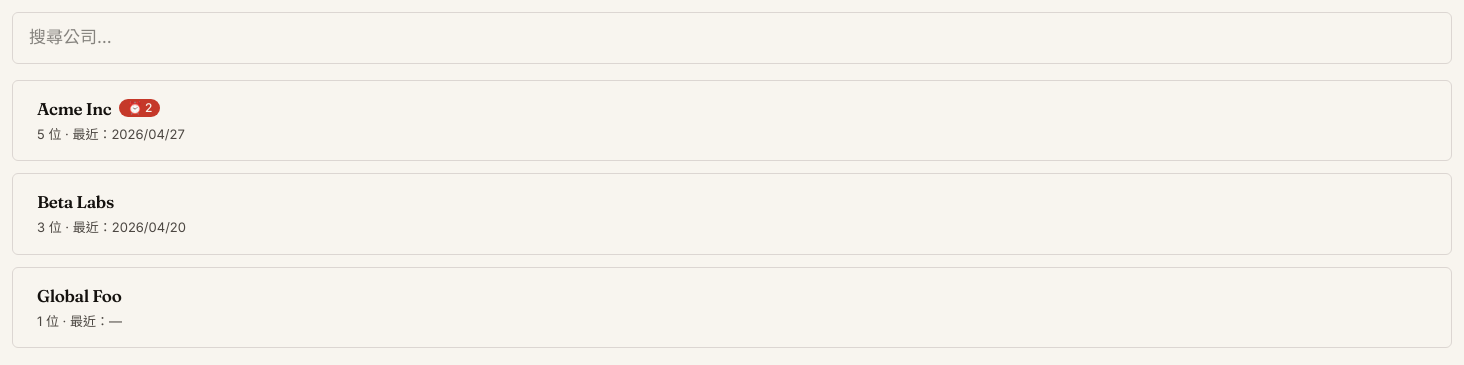
it: CompanyList filter › shows '沒有符合' message when nothing matches
This screenshot has width=1464, height=365.
Type "xyz" into the search field labelled "搜尋公司".
click(732, 38); type("xyz")  # box [12,12,1452,64]
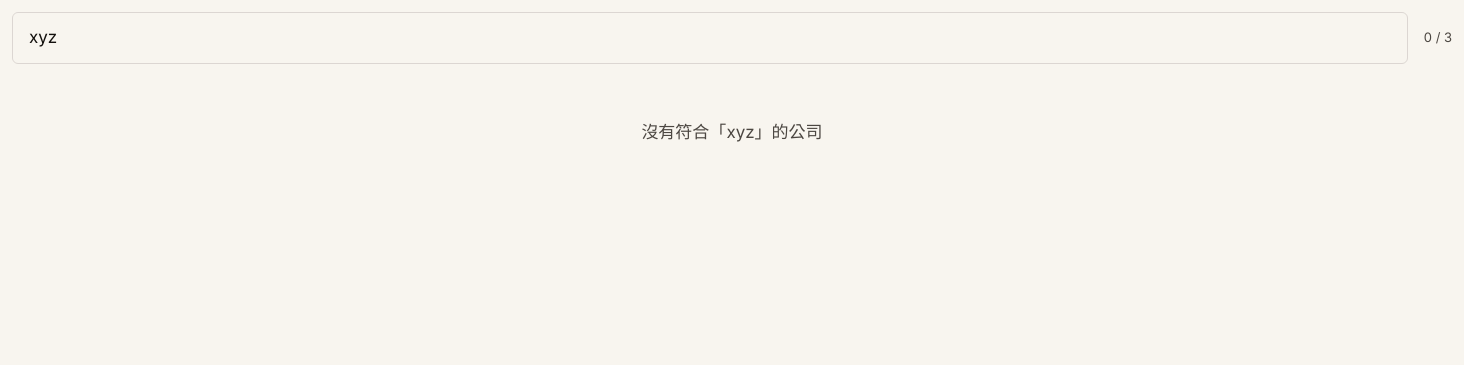
Result: the text "沒有符合「xyz」的公司" is shown at [641,122,823,142]
